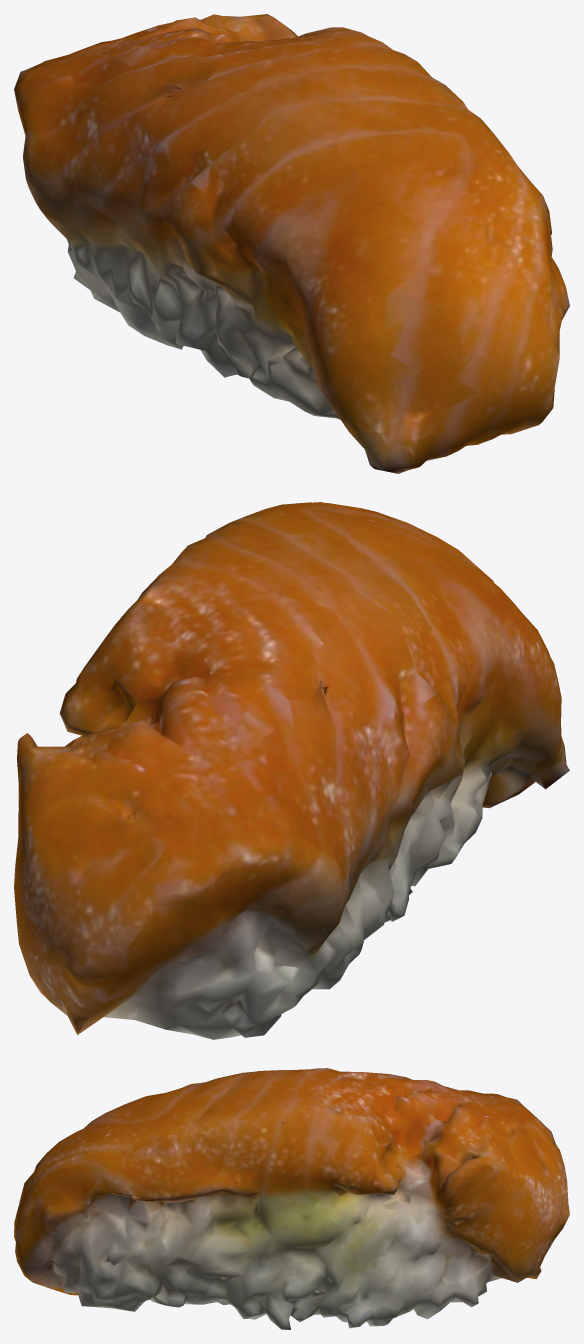
Rendered from salmon.glb.
3 renders of one model, top to bottom at view 1: azimuth 30°, elevation 25°; view 2: azimuth 150°, elevation 25°; view 3: azimuth 270°, elevation 25°, orthographic. The views are drawn at different scales.
Parts seen in each view (by area): view 1: Salmon; view 2: Salmon; view 3: Salmon.
Part boxes in pixels (x1,y1,x2,y2): Salmon: [14, 14, 569, 473]; Salmon: [14, 502, 569, 1039]; Salmon: [14, 1068, 569, 1329].
Bounding box in the file's own units: 32.38 × 30.83 × 69.45.
1 material, 1 textured.
